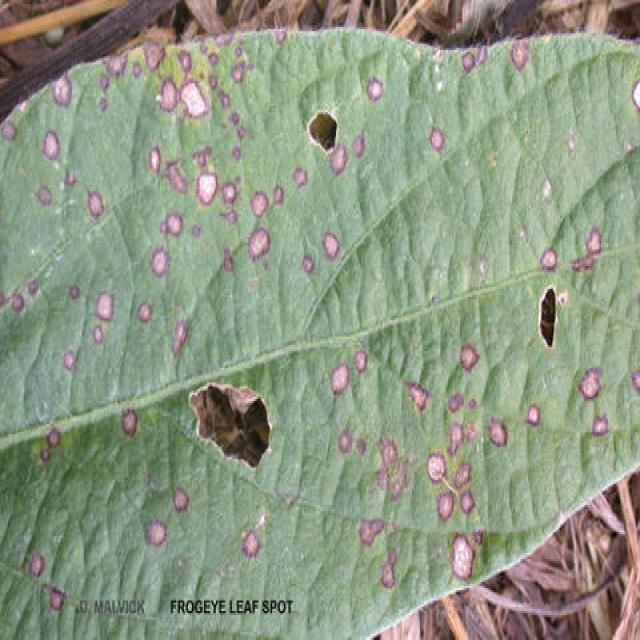Septoria: (0, 56, 630, 618)
